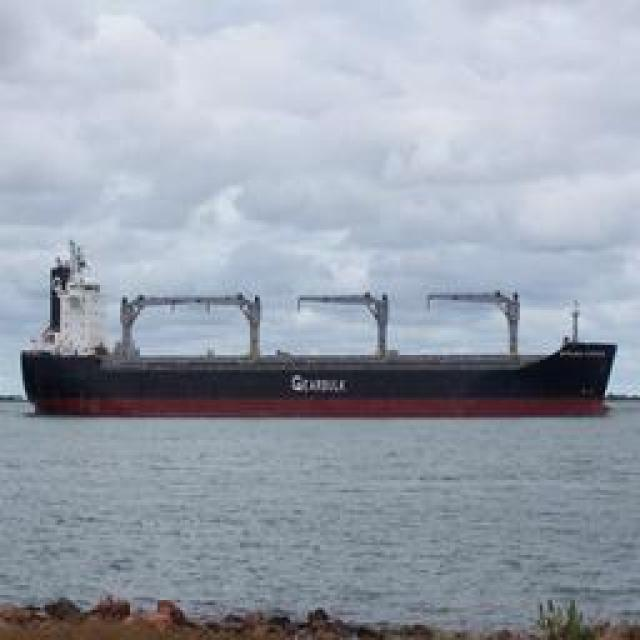Ship: (22, 259, 622, 422)
